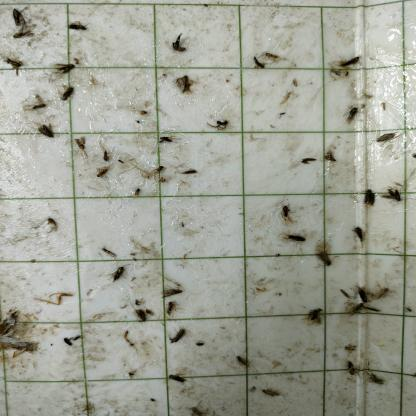prays_oleae: (17, 88, 53, 119), (157, 268, 185, 302), (167, 318, 189, 350), (318, 242, 339, 274), (34, 115, 56, 144), (12, 21, 35, 47), (385, 178, 403, 210), (306, 305, 322, 340), (339, 57, 362, 80), (39, 216, 64, 236), (69, 13, 87, 40), (284, 231, 307, 252), (346, 224, 366, 248), (370, 361, 386, 390), (171, 29, 187, 58), (346, 299, 367, 321), (301, 152, 318, 179), (233, 348, 249, 376), (8, 51, 23, 80), (168, 366, 185, 391), (74, 133, 89, 161), (376, 126, 397, 146), (58, 55, 76, 77), (346, 102, 360, 130), (216, 118, 233, 139), (62, 329, 74, 356), (376, 281, 388, 308), (101, 242, 115, 264), (110, 266, 125, 286), (96, 165, 112, 183), (346, 358, 358, 381), (61, 89, 78, 105), (358, 280, 375, 296), (134, 306, 146, 326), (266, 382, 280, 399), (188, 402, 204, 415), (167, 297, 175, 322), (345, 340, 357, 355)
